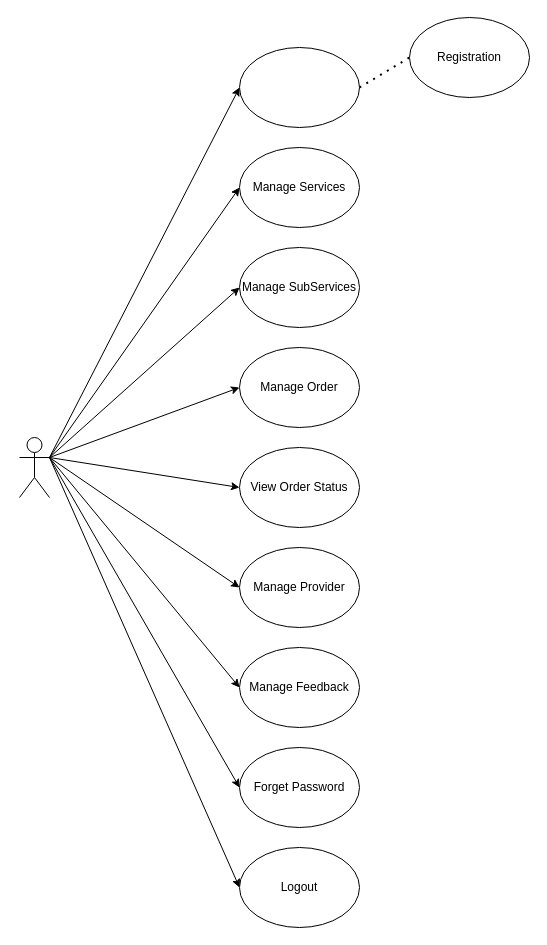
This 547x945 diagram has some shape labels left out. The shapes that lost their labels are listed below. From the top down, each one's box as (x1, y1, x2, y2) in pixels, then its label:
(238, 46, 360, 128): Login
(18, 436, 50, 498): Admin
